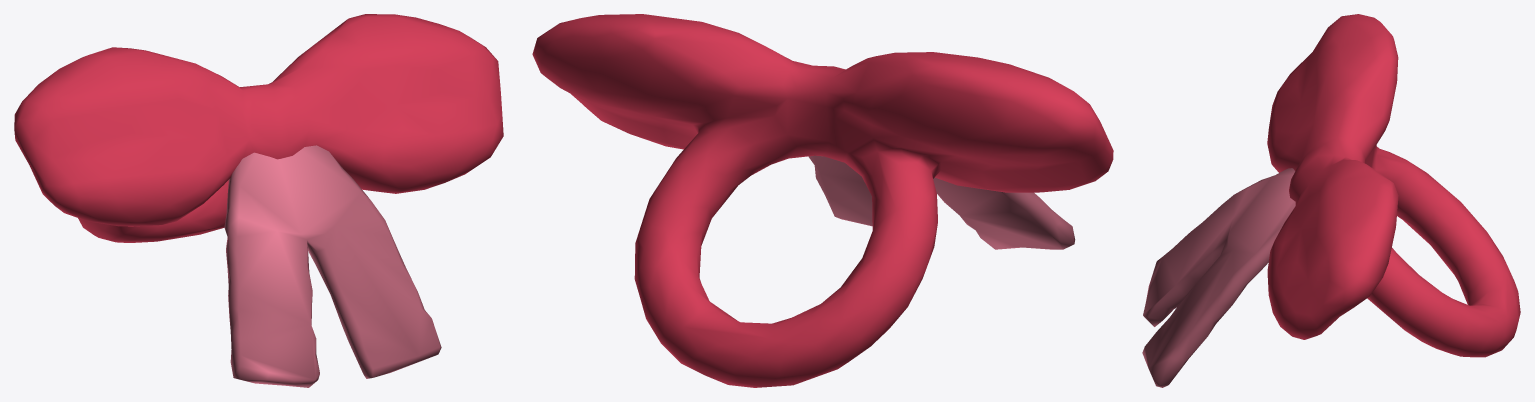
File: noduoi.glb
3 views of the same model, side by side, from view 1: azimuth 30°, elevation 25°; view 2: azimuth 150°, elevation 25°; view 3: azimuth 270°, elevation 25° (orthographic). The views are drawn at different scales.
Visible parts, largest first — view 1: No_Duoi, Ruy_Bang_Duoi; view 2: No_Duoi, Ruy_Bang_Duoi; view 3: No_Duoi, Ruy_Bang_Duoi.
Boxes of the visible parts, left/top/right/bottom form: No_Duoi: left=14, top=14, right=503, bottom=242; Ruy_Bang_Duoi: left=224, top=145, right=441, bottom=387; No_Duoi: left=532, top=14, right=1113, bottom=387; Ruy_Bang_Duoi: left=808, top=155, right=1075, bottom=249; No_Duoi: left=1267, top=14, right=1520, bottom=357; Ruy_Bang_Duoi: left=1142, top=168, right=1295, bottom=387.
Bounding box in the file's own units: 0.1488 × 0.0806 × 0.1079.
